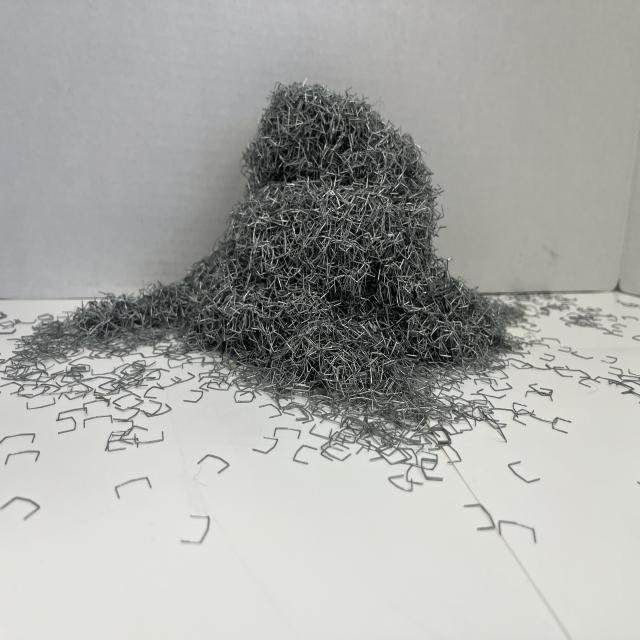staples: (18, 78, 512, 402)
